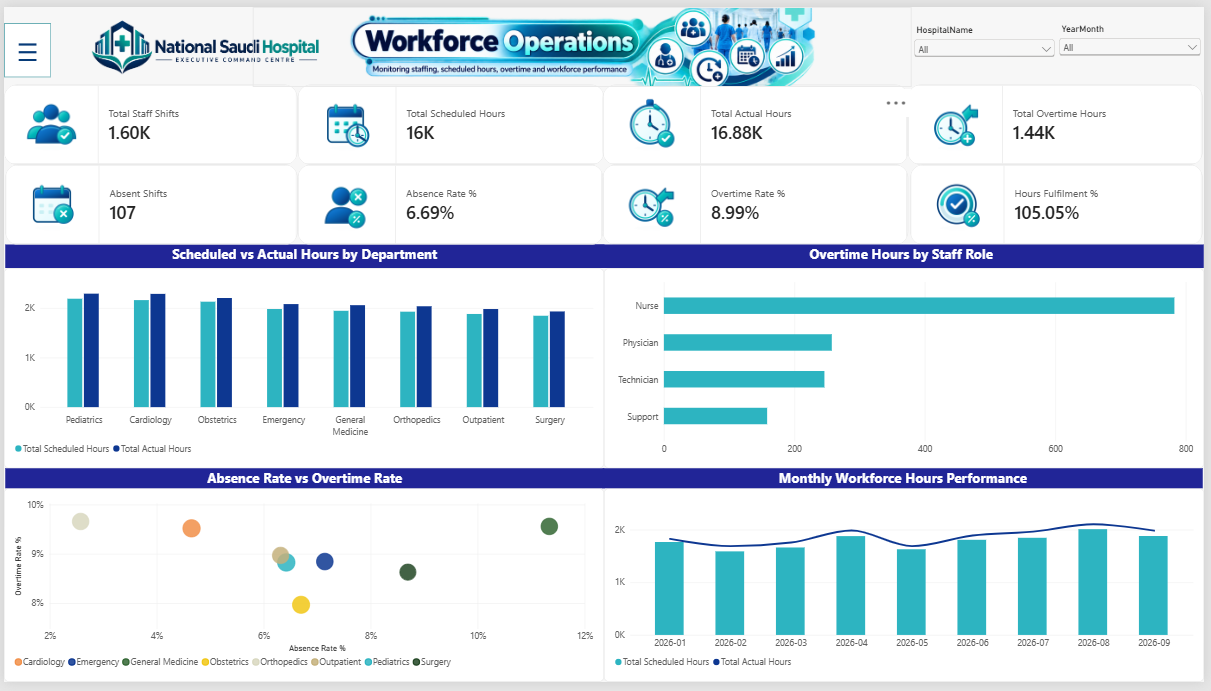

The page's visual inventory and layout, read from the dashboard file:
{"tool":"powerbi","page":{"name":"Workforce Operations","canvas":[1920,1080],"ordinal":4},"visuals":[{"type":"cardVisual","fields":{"Data":["tblStaffShifts.Total Scheduled Hours"]},"box":[469.8,123.1,490.3,128.6],"z":0},{"type":"cardVisual","fields":{"Data":["tblStaffShifts.Total Actual Hours"]},"box":[958.3,123.1,488.5,128.6],"z":1000},{"type":"cardVisual","fields":{"Data":["tblStaffShifts.Overtime Rate %"]},"box":[958.3,251.7,488.5,128.6],"z":2000},{"type":"cardVisual","fields":{"Data":["tblStaffShifts.Hours Fulfilment %"]},"box":[1450.5,251.7,468,128.6],"z":3000},{"type":"cardVisual","fields":{"Data":["tblStaffShifts.Total Overtime Hours"]},"box":[1446.8,123.1,471.7,128.6],"z":4000},{"type":"cardVisual","title":"Monthly Patient Visits","fields":{"Data":["tblStaffShifts.Total Staff Shifts"]},"box":[0,123.1,469.8,128.6],"z":5000},{"type":"image","box":[109.1,0,423.5,128.5],"z":6000},{"type":"slicer","fields":{"Values":["tblHospitals.HospitalName"]},"box":[1451.3,29,233.4,106.8],"z":7000},{"type":"slicer","fields":{"Values":["DimDate.YearMonth"]},"box":[1684.7,25.3,235.3,86.9],"z":8000},{"type":"clusteredColumnChart","fields":{"Category":["tblDepartments.DepartmentName"],"Y":["tblStaffShifts.Total Scheduled Hours","tblStaffShifts.Total Actual Hours"]},"box":[0,418,960,320],"z":9000},{"type":"clusteredBarChart","fields":{"Category":["tblStaffShifts.StaffRole"],"Y":["tblStaffShifts.Total Overtime Hours"]},"box":[960,418,960,320],"z":10000},{"type":"scatterChart","fields":{"Series":["tblDepartments.DepartmentName"],"Size":["tblStaffShifts.Total Staff Shifts"],"X":["tblStaffShifts.Absence Rate %"],"Y":["tblStaffShifts.Overtime Rate %"]},"box":[0,770,960.2,309.5],"z":11000},{"type":"lineClusteredColumnComboChart","fields":{"Category":["DimDate.YearMonth"],"Y":["tblStaffShifts.Total Scheduled Hours"],"Y2":["tblStaffShifts.Total Actual Hours"]},"box":[960.2,770,960.2,309.5],"z":12000},{"type":"textbox","box":[1.9,380.3,958.3,37.3],"z":13000},{"type":"textbox","box":[945.3,380.3,973.2,37.3],"z":14000},{"type":"textbox","box":[1.9,738.3,958.3,31.7],"z":15000},{"type":"textbox","box":[958.3,738.3,960.2,31.7],"z":16000},{"type":"cardVisual","title":"Monthly Patient Visits","fields":{"Data":["tblStaffShifts.Absence Rate %"]},"box":[469.8,251.7,488.5,128.6],"z":17000},{"type":"cardVisual","title":"Monthly Patient Visits","fields":{"Data":["tblStaffShifts.Absent Shifts"]},"box":[1.9,251.7,468,128.6],"z":18000},{"type":"image","box":[398,0,1054,128],"z":19000},{"type":"shape","box":[0,26.6,75.5,86.5],"z":21000}]}

Visuals, with their boxes in screenshot pixels (x1, y1, x2, y2), scaled from the page's 1920x1080 canvas onto the 1211x691 screenshot:
cardVisual - tblStaffShifts.Total Scheduled Hours: 296,79,606,161
cardVisual - tblStaffShifts.Total Actual Hours: 604,79,913,161
cardVisual - tblStaffShifts.Overtime Rate %: 604,161,913,243
cardVisual - tblStaffShifts.Hours Fulfilment %: 915,161,1210,243
cardVisual - tblStaffShifts.Total Overtime Hours: 913,79,1210,161
"Monthly Patient Visits" cardVisual: 0,79,296,161
image: 69,0,336,82
slicer - tblHospitals.HospitalName: 915,19,1063,87
slicer - DimDate.YearMonth: 1063,16,1210,72
clusteredColumnChart - tblDepartments.DepartmentName x tblStaffShifts.Total Scheduled Hours: 0,267,606,472
clusteredBarChart - tblStaffShifts.StaffRole x tblStaffShifts.Total Overtime Hours: 606,267,1210,472
scatterChart - tblDepartments.DepartmentName x tblStaffShifts.Total Staff Shifts: 0,493,606,690
lineClusteredColumnComboChart - DimDate.YearMonth x tblStaffShifts.Total Scheduled Hours: 606,493,1210,690
textbox: 1,243,606,267
textbox: 596,243,1210,267
textbox: 1,472,606,493
textbox: 604,472,1210,493
"Monthly Patient Visits" cardVisual: 296,161,604,243
"Monthly Patient Visits" cardVisual: 1,161,296,243
image: 251,0,916,82
shape: 0,17,48,72
